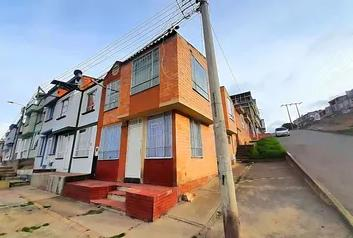casa: (100, 36, 213, 213), (53, 77, 98, 189)
